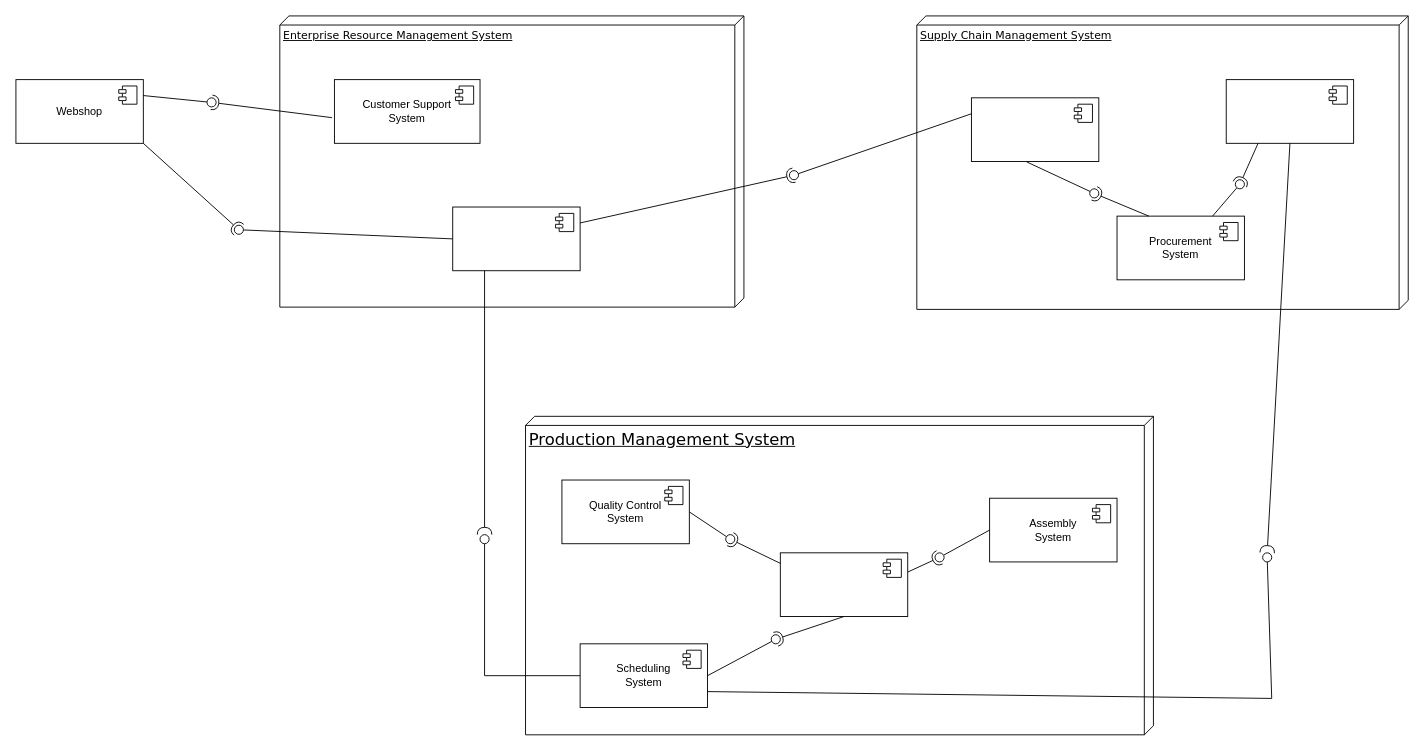
This 1424x751 diagram has some shape labels left out. Here are the shapes that lost their labels. From the top down, the box of each, then its label:
(971, 97, 1099, 162): Transportation Management System
(1225, 79, 1354, 143): Warehouse Management System
(452, 206, 580, 271): Orders System
(779, 552, 908, 617): Supervisor System
